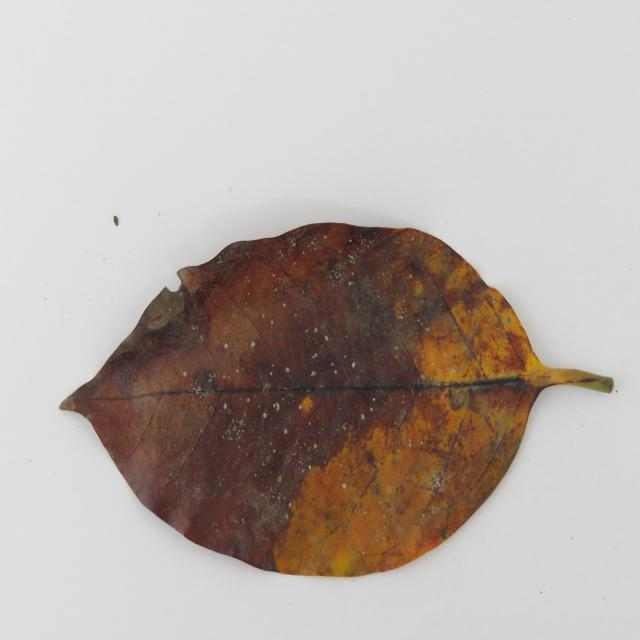DeficienciaNutricional-Potasio: (61, 223, 612, 577)
